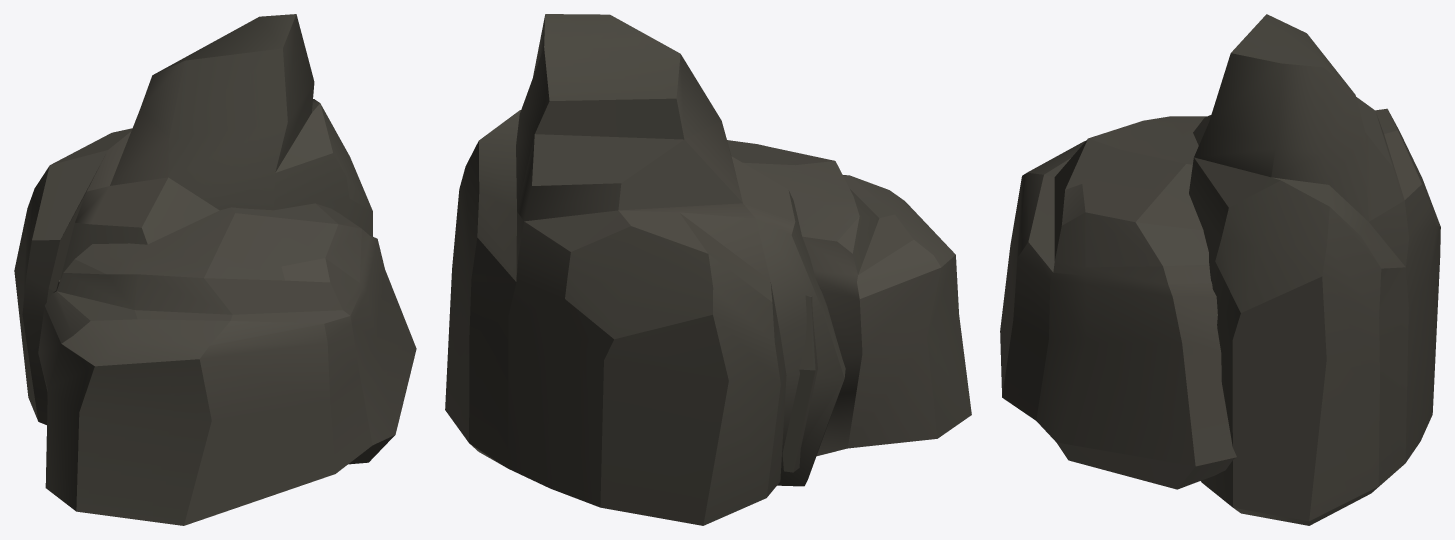
Rendered from Rock_Large_2.obj.
The picture shows the model from 3 angles, left to right: view 1: azimuth 30°, elevation 25°; view 2: azimuth 150°, elevation 25°; view 3: azimuth 270°, elevation 25°; orthographic projection. The views are drawn at different scales.
Parts seen in each view (by area): view 1: Rock_Large_2_Cube.030; view 2: Rock_Large_2_Cube.030; view 3: Rock_Large_2_Cube.030.
Part boxes in pixels (left/top/right/bottom): Rock_Large_2_Cube.030: left=14, top=14, right=416, bottom=525; Rock_Large_2_Cube.030: left=445, top=14, right=971, bottom=525; Rock_Large_2_Cube.030: left=1000, top=14, right=1440, bottom=525.
Bounding box in the file's own units: 8.54 × 8.21 × 7.62.
Materials: 1 (1 with a texture image).
